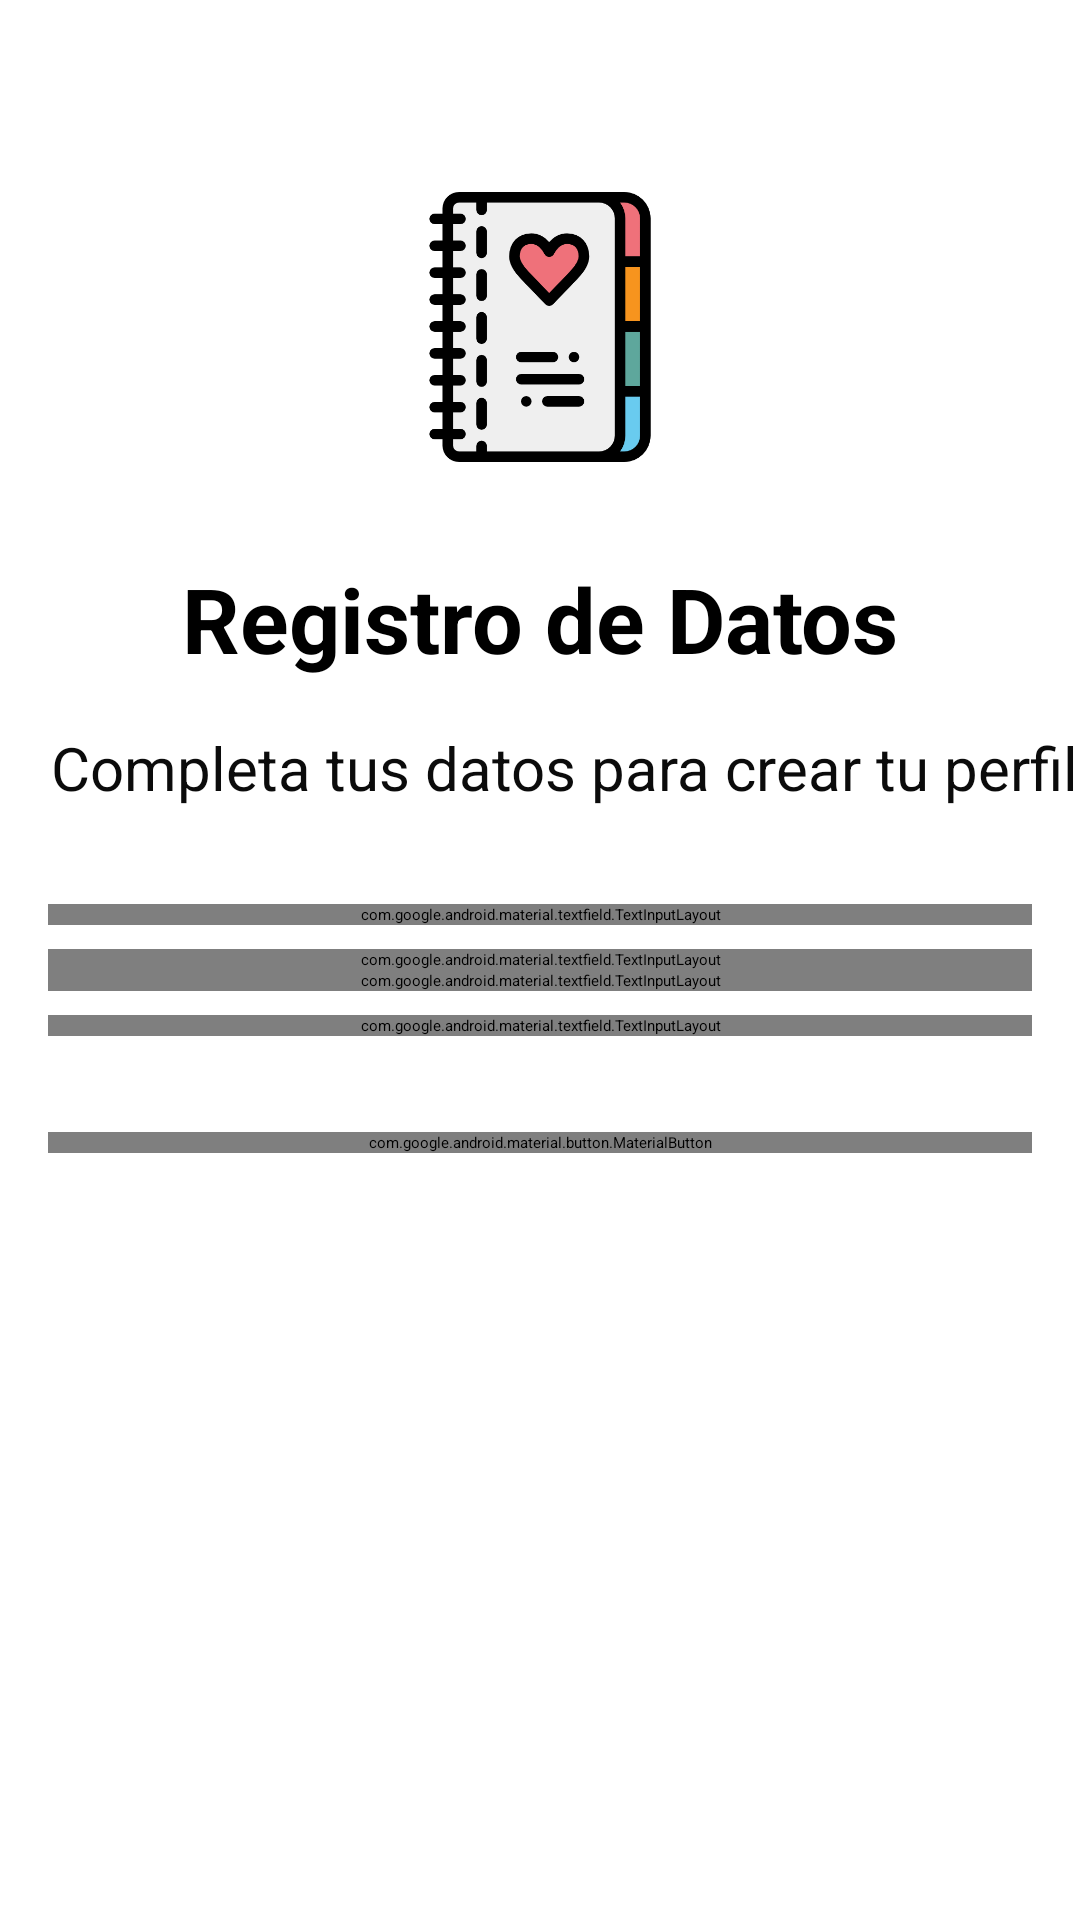

Screen size 1080w x 1920h. Icon name, then its center in pixels as [x,y]:
agenda: [540,327]
